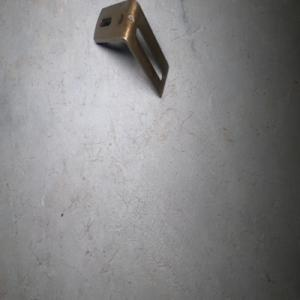MetalPart: (92, 0, 170, 100)
